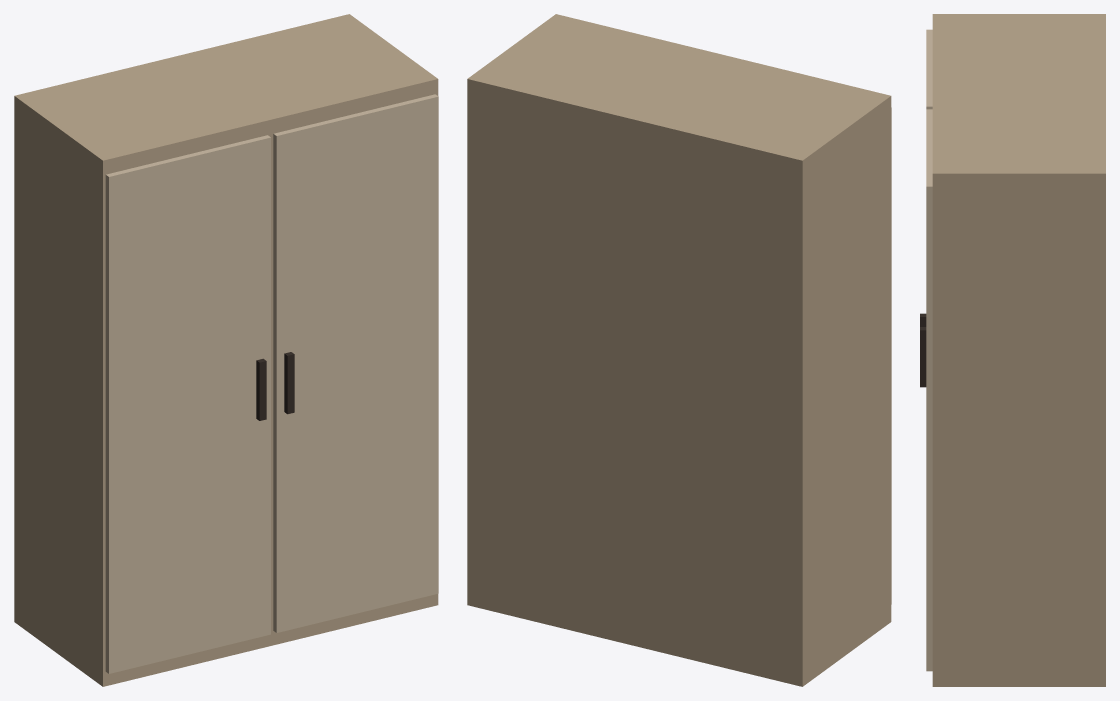
Rendered from cabinet.glb.
The picture shows the model from 3 angles, left to right: view 1: azimuth 30°, elevation 25°; view 2: azimuth 150°, elevation 25°; view 3: azimuth 270°, elevation 25°; orthographic projection. The views are drawn at different scales.
Parts seen in each view (by area): view 1: cabinet; view 2: cabinet; view 3: cabinet.
Boxes of the visible parts, box(x1,y1,x2,y2) form: cabinet: box(14, 14, 438, 686); cabinet: box(467, 14, 891, 686); cabinet: box(920, 14, 1105, 686).
Size of the model in its own units: 1.2 by 1.8 by 0.59.
